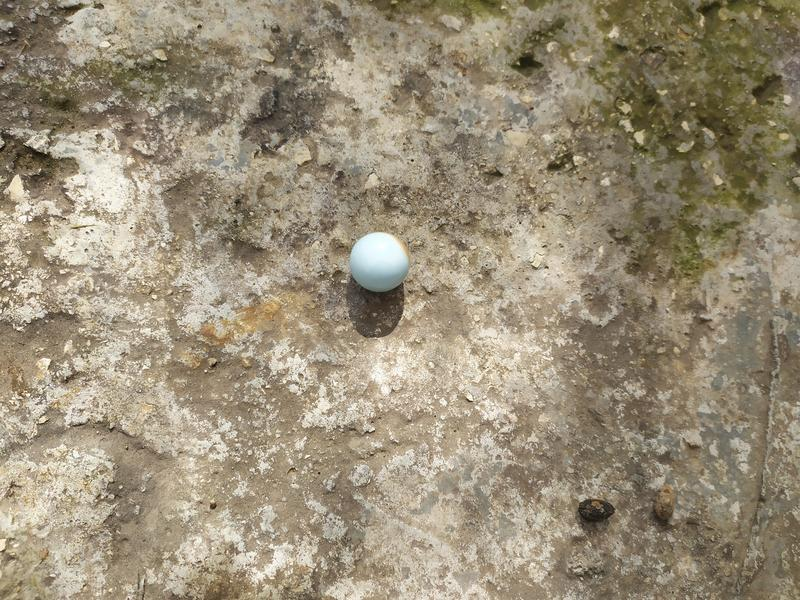Warning: (348, 230, 412, 294)
